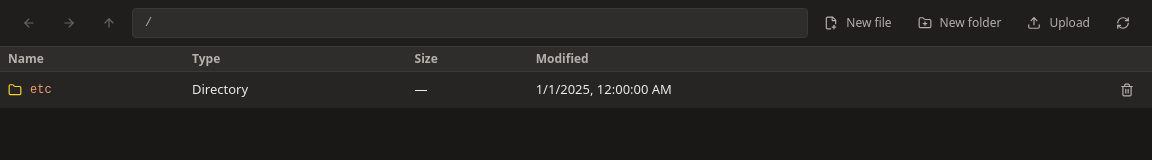
FilesTab › entering a custom path navigates on Enter
Expected: the table with test id "files-table" is shown, [0, 47, 1151, 108]
Click the element with test id "files-breadcrumbs": click(470, 23) [132, 8, 808, 38]
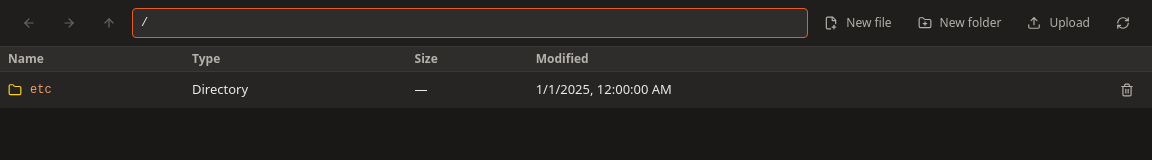
Replace the text in the field with test id "files-path-input" with "/etc": (470, 23) [132, 8, 808, 38]
Then press Enter
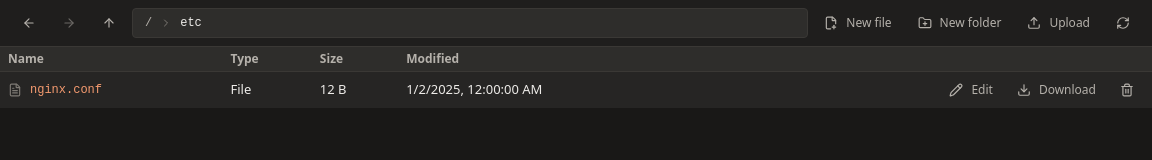
Expected: the button with test id "crumb-0" reads "etc", [176, 15, 206, 31]
Result: the field with test id "files-path-input" is gone
